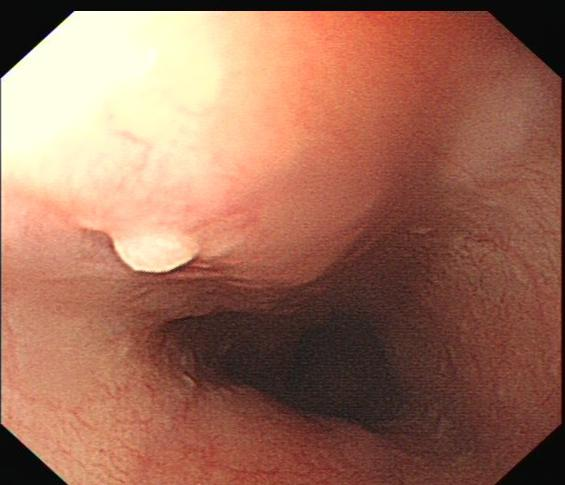Polyp: (106, 221, 202, 275)
